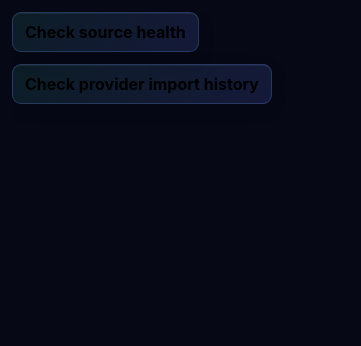
Scenario: fetches IPO source diagnostics only after explicit click
Click the button "Check source health": (105, 32) x1=12 y1=12 x2=199 y2=52
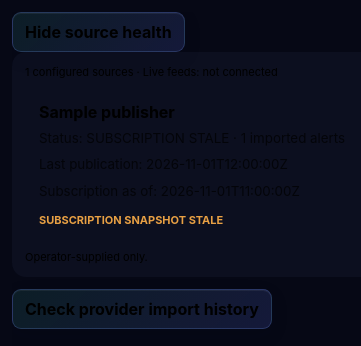
Now the text "Sample publisher" is shown, box x1=39 y1=102 x2=175 y2=122
Now the text "SUBSCRIPTION SNAPSHOT STALE" is shown, box x1=39 y1=213 x2=223 y2=227
